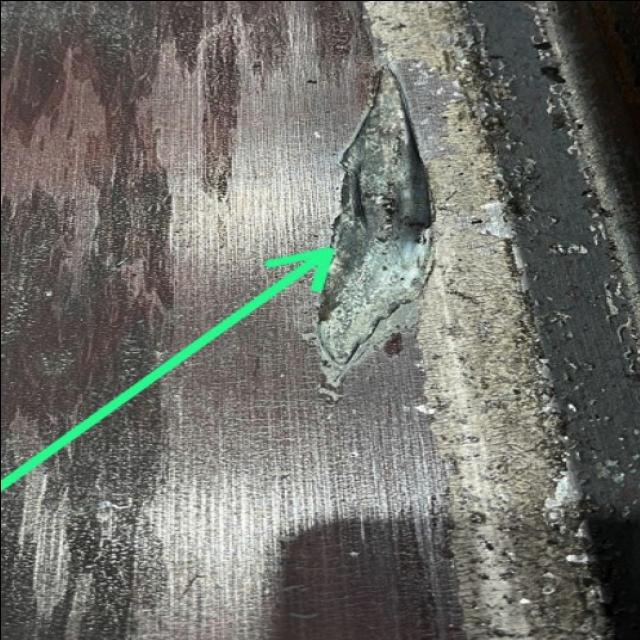defect: (313, 66, 431, 399)
